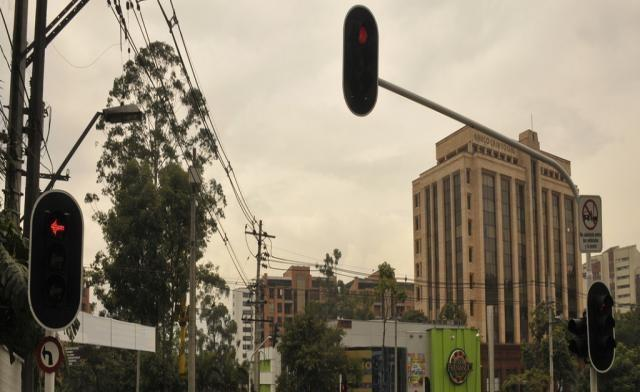red_light: (29, 189, 85, 332), (341, 5, 379, 116)
